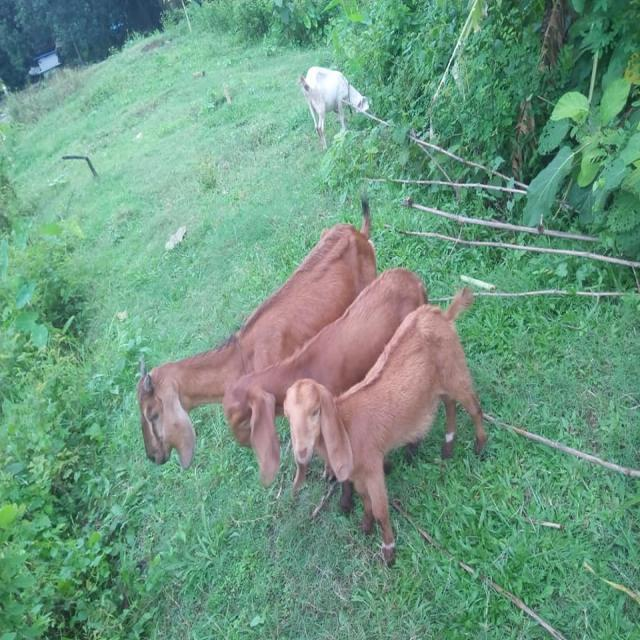Goat: (137, 196, 377, 470), (283, 284, 487, 566), (221, 265, 429, 493), (297, 64, 390, 151)
